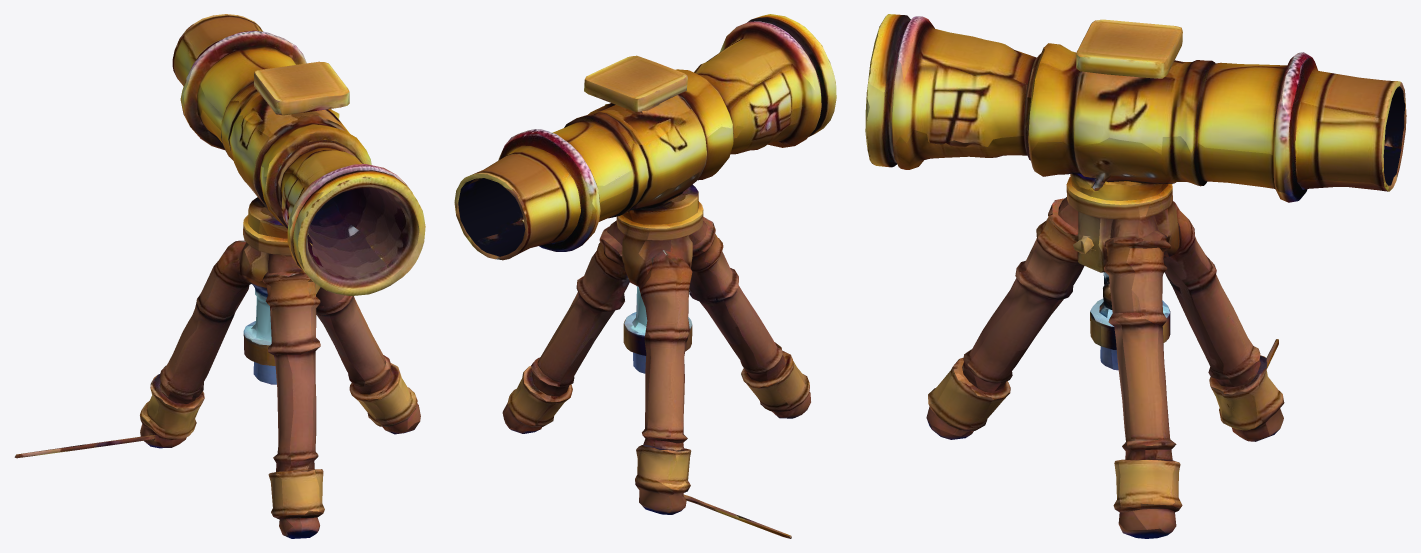
File: telescope.glb
3 renders of one model, left to right at view 1: azimuth 30°, elevation 25°; view 2: azimuth 150°, elevation 25°; view 3: azimuth 270°, elevation 25°, orthographic. The views are drawn at different scales.
Parts seen in each view (by area): view 1: telescope; view 2: telescope; view 3: telescope.
Boxes of the visible parts, bbox=[...] form: telescope: bbox=[14, 14, 425, 538]; telescope: bbox=[454, 14, 836, 538]; telescope: bbox=[865, 14, 1406, 538].
Size of the model in its own units: 0.854 by 0.9007 by 1.
Materials: 1 (1 with a texture image).
